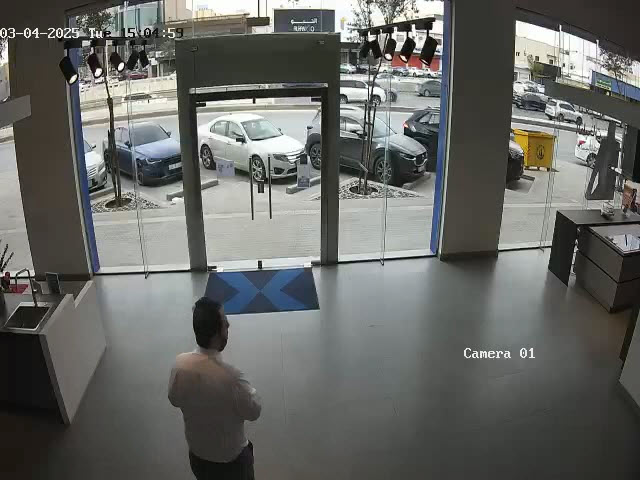male: (167, 296, 263, 480)
